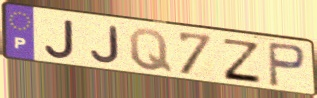7: (177, 30, 215, 78)
J: (42, 18, 76, 60), (89, 25, 122, 66)
P: (266, 40, 309, 90)
Q: (127, 27, 175, 74)
Z: (222, 37, 264, 86)
